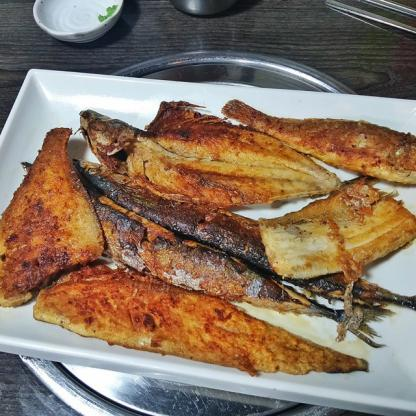Peixe: (0, 92, 416, 382)
